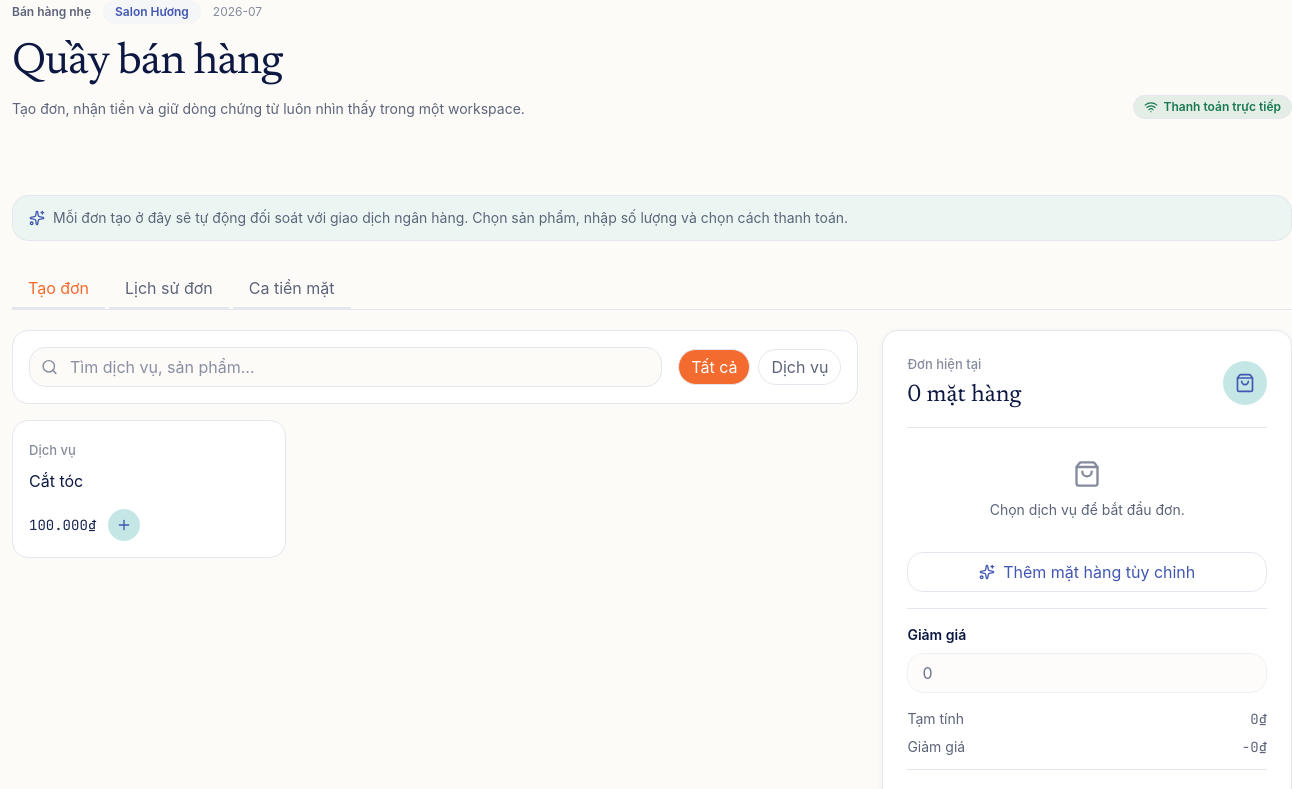
it: sales workspace › creates and records a cash sale with visible evidence
The width and height of the screenshot is (1292, 789).
What coordinates should you click on to do the following:
click the button "Dịch vụ Cắt tóc 100.000₫"
I would click on:
 (52, 450)
Its box is left=12, top=420, right=286, bottom=558.
(page scrolled)
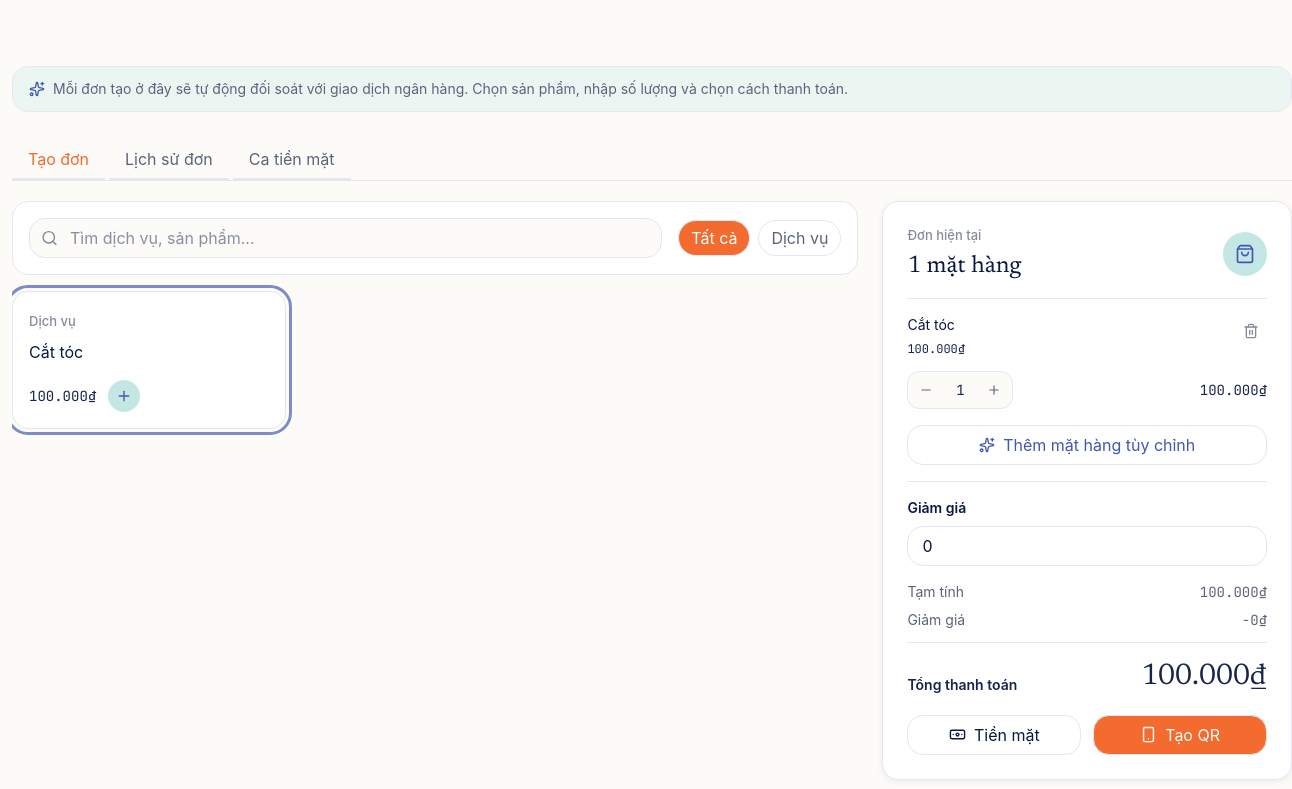
Result: the heading "1 mặt hàng" is shown at left=907, top=250, right=1021, bottom=282
What coordinates should you click on to do the following:
click the button "Tiền mặt"
I would click on:
 (994, 734)
Its box is left=907, top=714, right=1081, bottom=754.
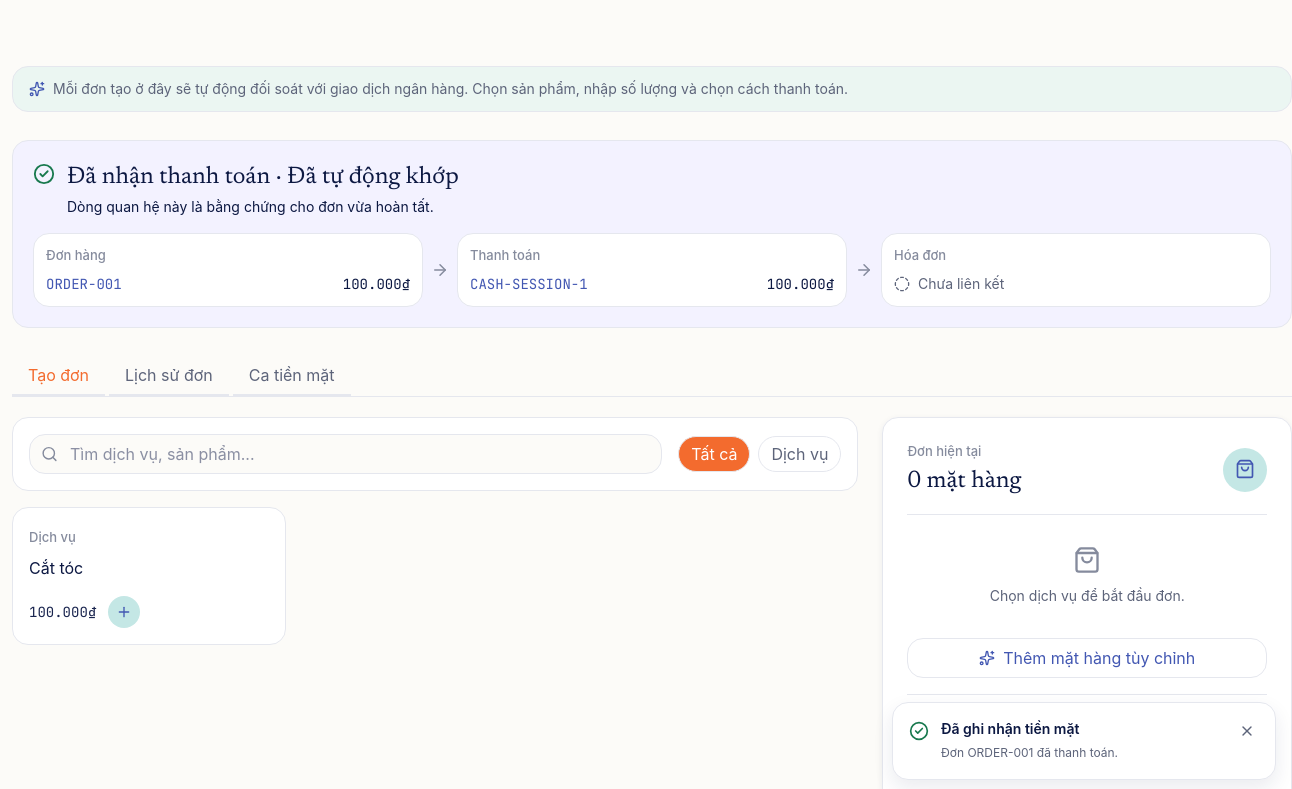
Result: the heading "Đã nhận thanh toán · Đã tự động khớp" is shown at left=67, top=161, right=459, bottom=193
Result: the text "ORDER-001" is shown at left=46, top=274, right=122, bottom=294
Result: the text "CASH-SESSION-1" is shown at left=470, top=274, right=588, bottom=294
